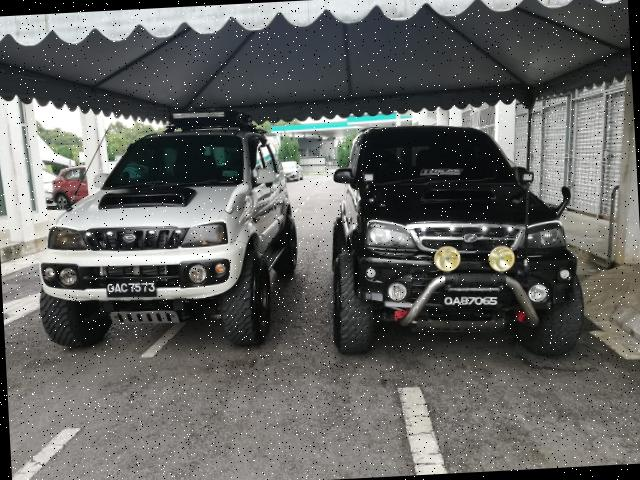License_Plate: (108, 278, 159, 302), (443, 290, 501, 309)
car: (28, 96, 302, 364), (317, 115, 593, 375)
